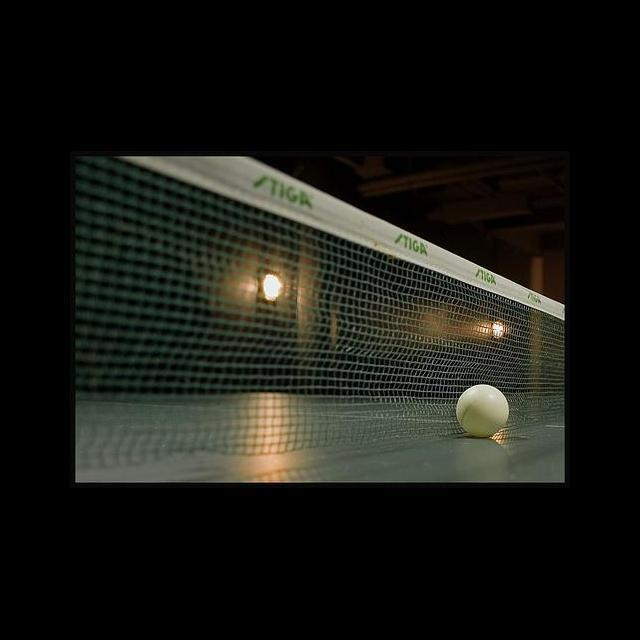ping-pong-ball: (456, 384, 510, 438)
